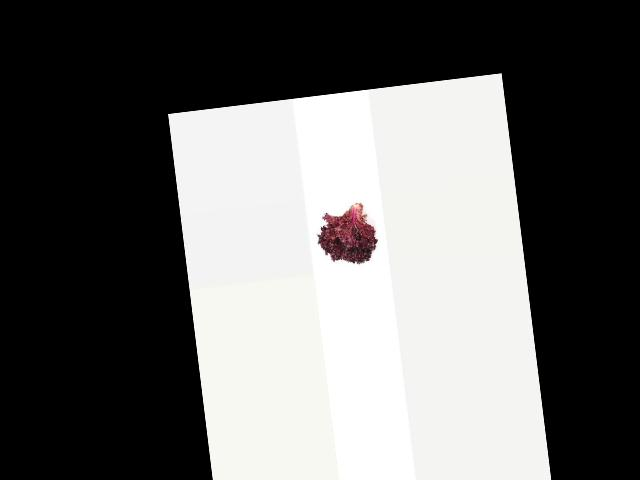lettuce: (311, 195, 378, 271)
